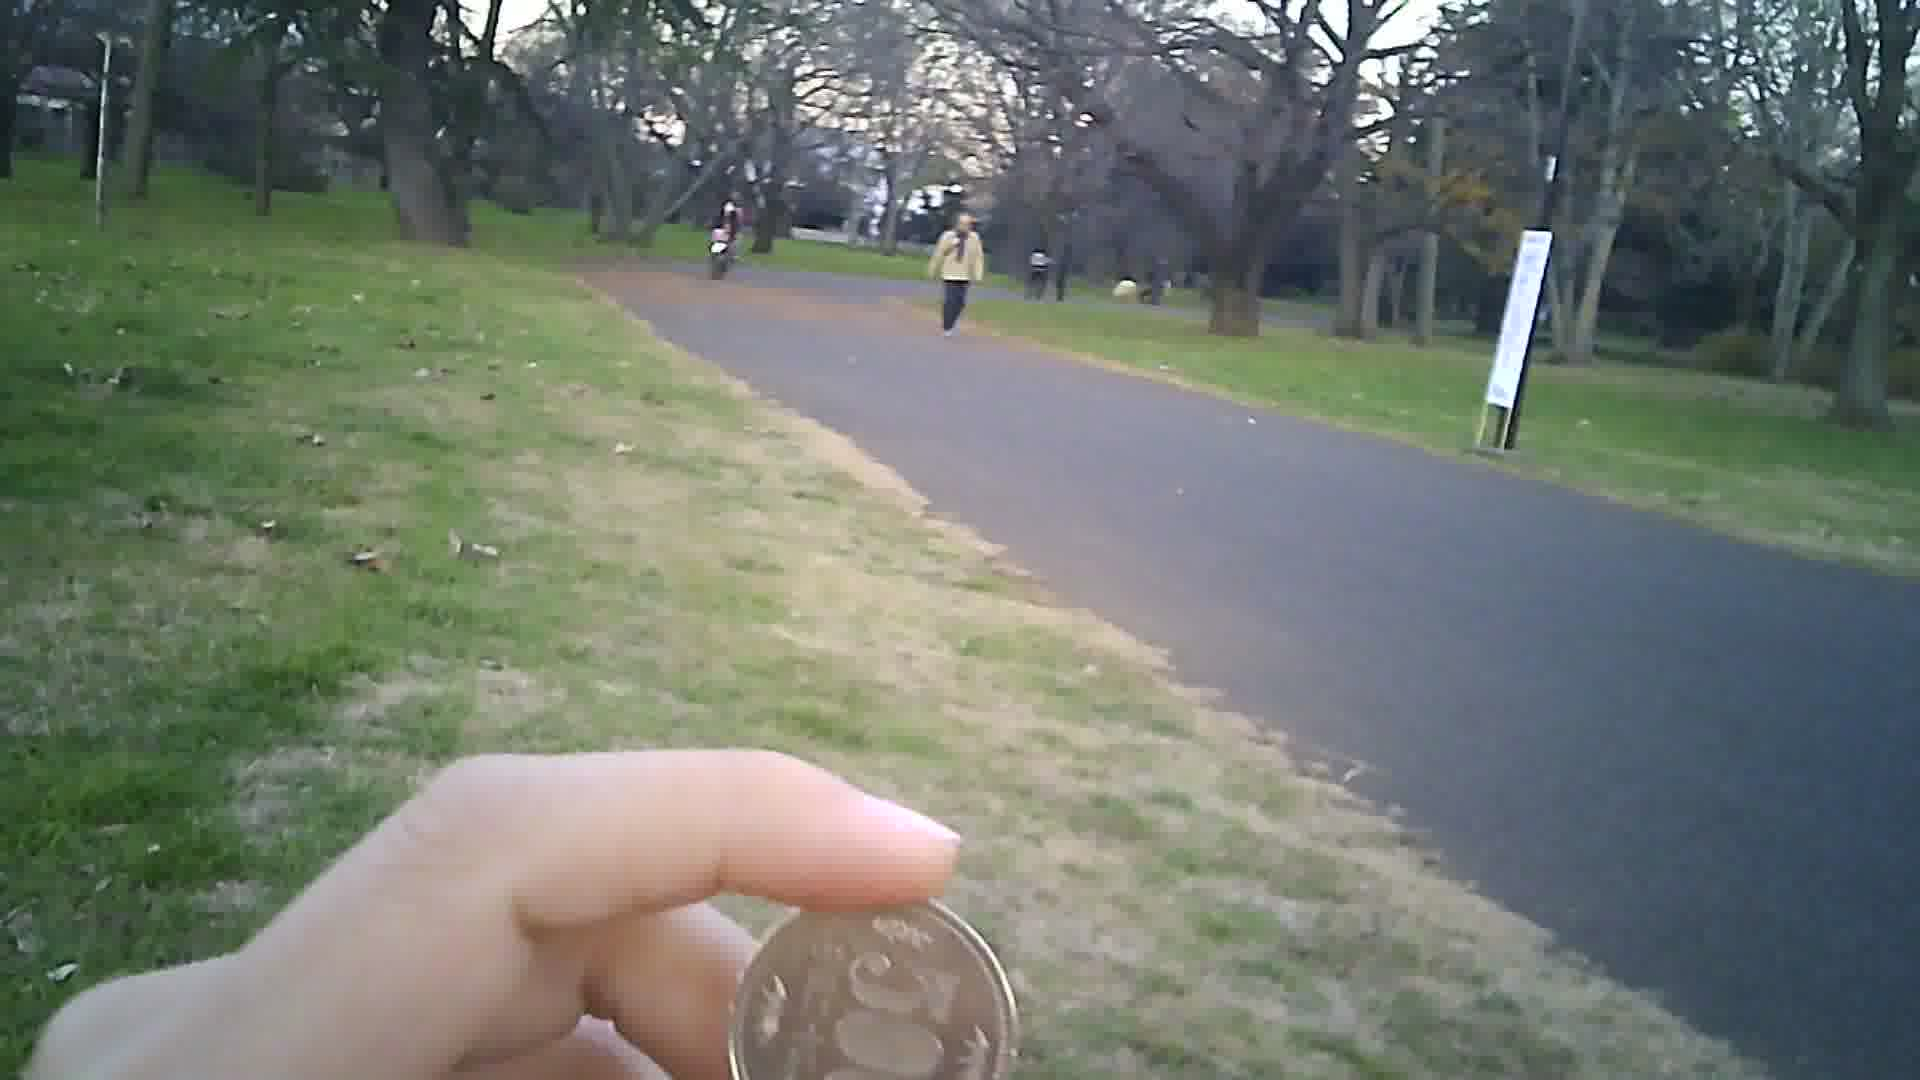500 Yen: (731, 887, 1021, 1079)
